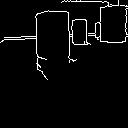cube: (29, 5, 71, 76), (96, 3, 128, 53), (72, 13, 94, 54)
